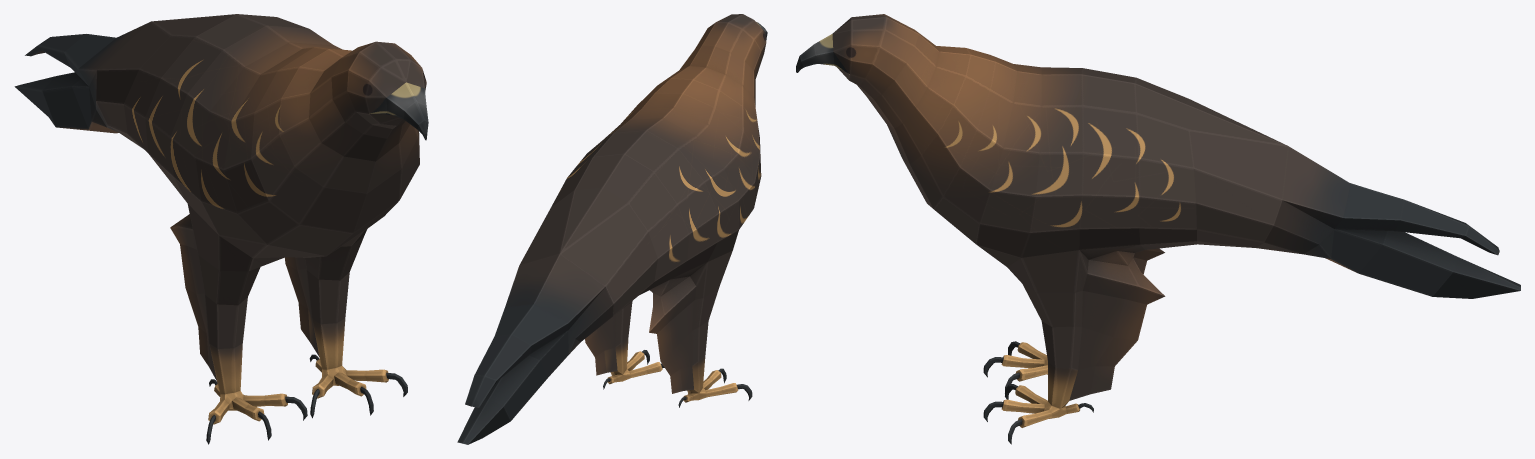
The model's file is Golden eagle.glb.
The picture shows the model from 3 angles, left to right: view 1: azimuth 30°, elevation 25°; view 2: azimuth 150°, elevation 25°; view 3: azimuth 270°, elevation 25°; orthographic projection. The views are drawn at different scales.
Parts seen in each view (by area): view 1: GoldenEagle_mesh2; view 2: GoldenEagle_mesh2; view 3: GoldenEagle_mesh2.
Boxes of the visible parts, x1,y1,x2,y2 form: GoldenEagle_mesh2: (14,14,428,444); GoldenEagle_mesh2: (457,14,767,444); GoldenEagle_mesh2: (796,14,1520,444).
Size of the model in its own units: 0.3143 by 0.6438 by 1.1.
Materials: 1 (1 with a texture image).
